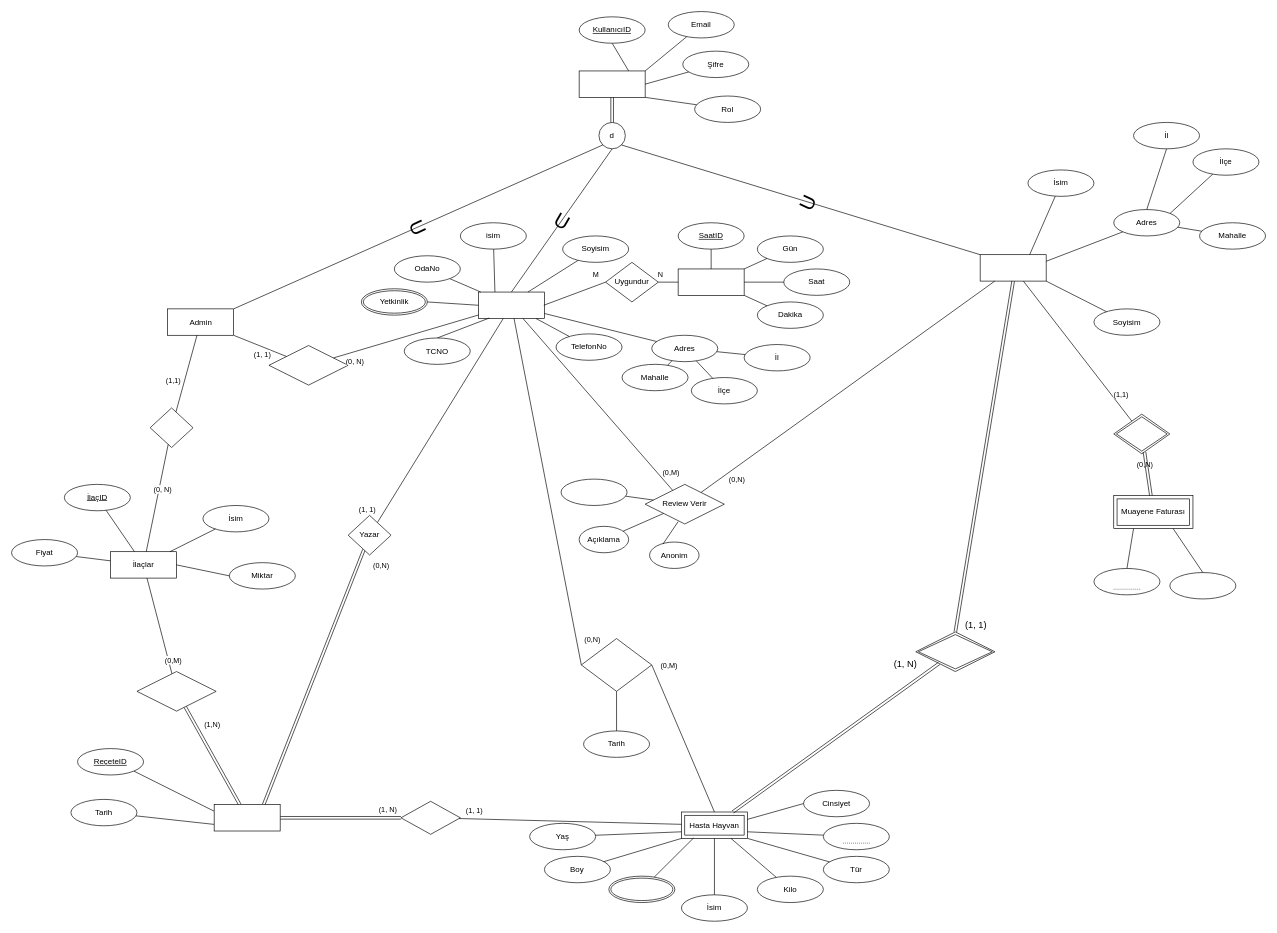
The diagram is 1277 pixels wide and 933 high, and some of its shapes have lost their labels. The shapes that lost their labels are listed below. From the top down, each one's box as (x1, y1, x2, y2) in pixels, then its label:
(578, 70, 645, 97): Kullanıcı
(677, 268, 744, 295): Saatler
(980, 254, 1046, 281): Hayvan Sahibi
(478, 291, 544, 318): Veteriner
(268, 345, 348, 385): Ekler
(149, 407, 193, 448): İlaç Alır
(1113, 413, 1170, 454): Öder
(560, 478, 627, 505): Puan
(1093, 568, 1160, 595): FaturaID
(1169, 572, 1236, 599): Ücret
(581, 638, 652, 691): Randevu
(915, 631, 995, 672): Sahip
(136, 671, 216, 711): İçerir
(214, 804, 280, 831): Reçete
(400, 801, 460, 834): Var
(823, 823, 889, 850): HastaID
(608, 875, 675, 903): Renk
